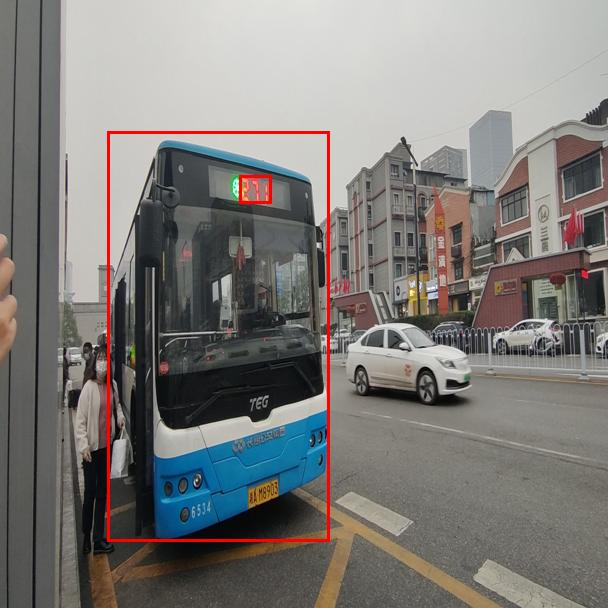bus: (107, 131, 329, 541)
screen: (239, 175, 271, 203)
